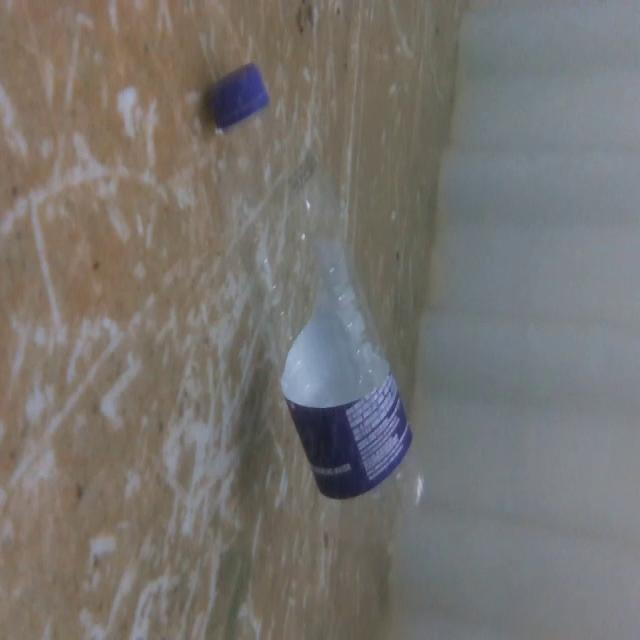plastic bottle: (201, 57, 437, 552)
